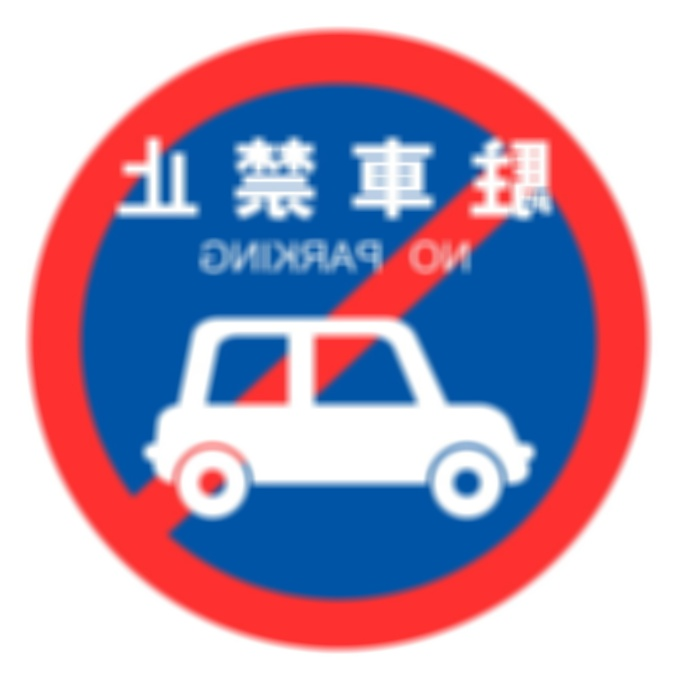Prohibition_sign: (1, 17, 650, 651)
